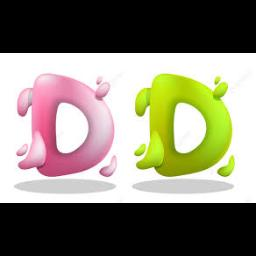d: (26, 72, 116, 180), (146, 70, 236, 178)
